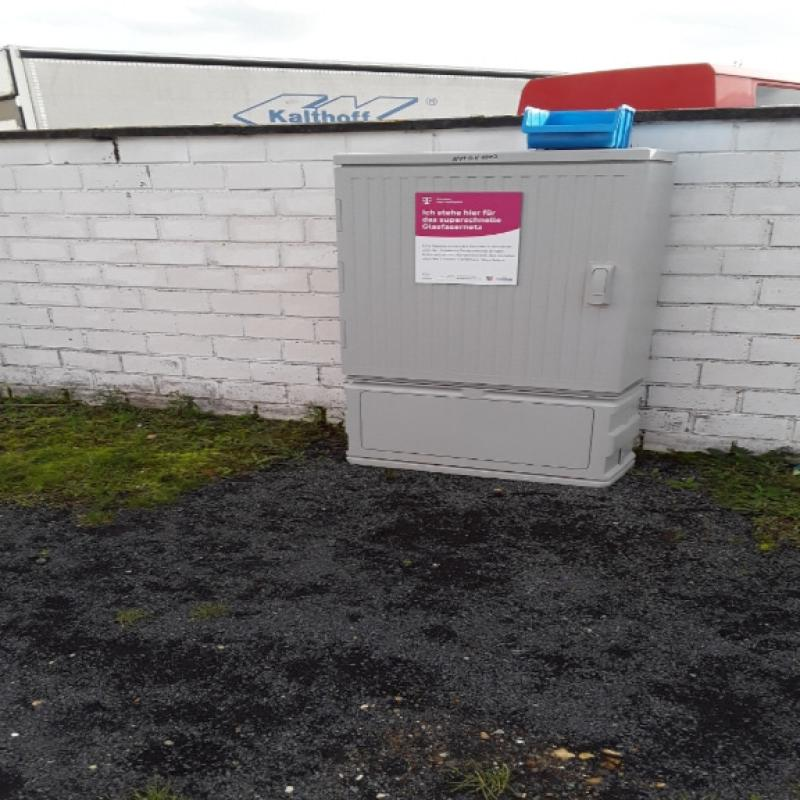NT-Gehause: (342, 155, 664, 480)
Steaker: (411, 192, 519, 283)
